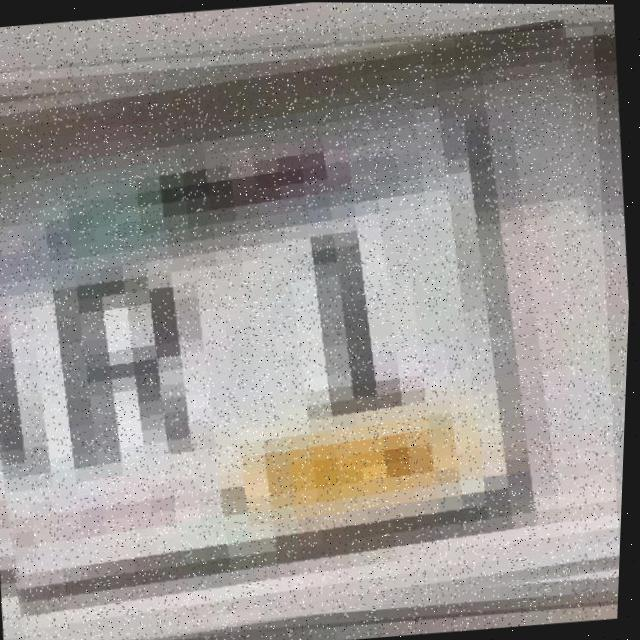LicensePlate: (0, 21, 639, 640)
